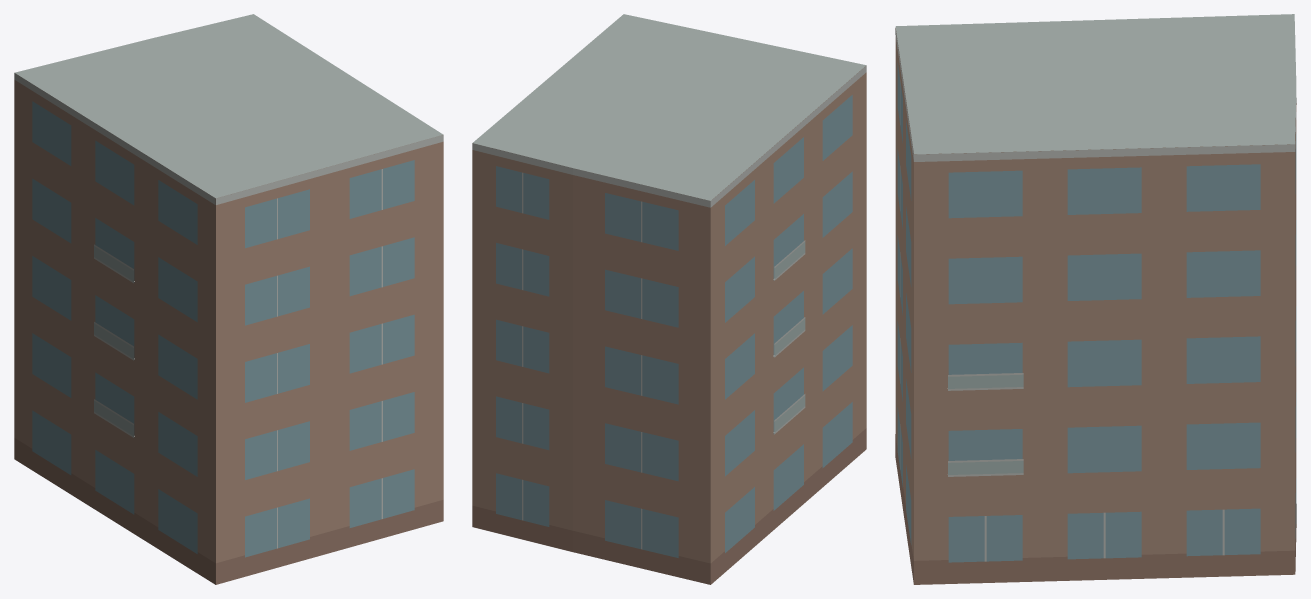
File: survey-upis-32689239.glb
The picture shows the model from 3 angles, left to right: view 1: azimuth 30°, elevation 25°; view 2: azimuth 150°, elevation 25°; view 3: azimuth 270°, elevation 25°; orthographic projection. The views are drawn at different scales.
Parts seen in each view (by area): view 1: survey-upis-32689239.tmp; view 2: survey-upis-32689239.tmp; view 3: survey-upis-32689239.tmp.
Boxes of the visible parts, box(x1,y1,x2,y2) form: survey-upis-32689239.tmp: box(14, 14, 443, 584); survey-upis-32689239.tmp: box(472, 14, 866, 584); survey-upis-32689239.tmp: box(895, 14, 1296, 584).
Size of the model in its own units: 9.6 by 13.7 by 11.58.
